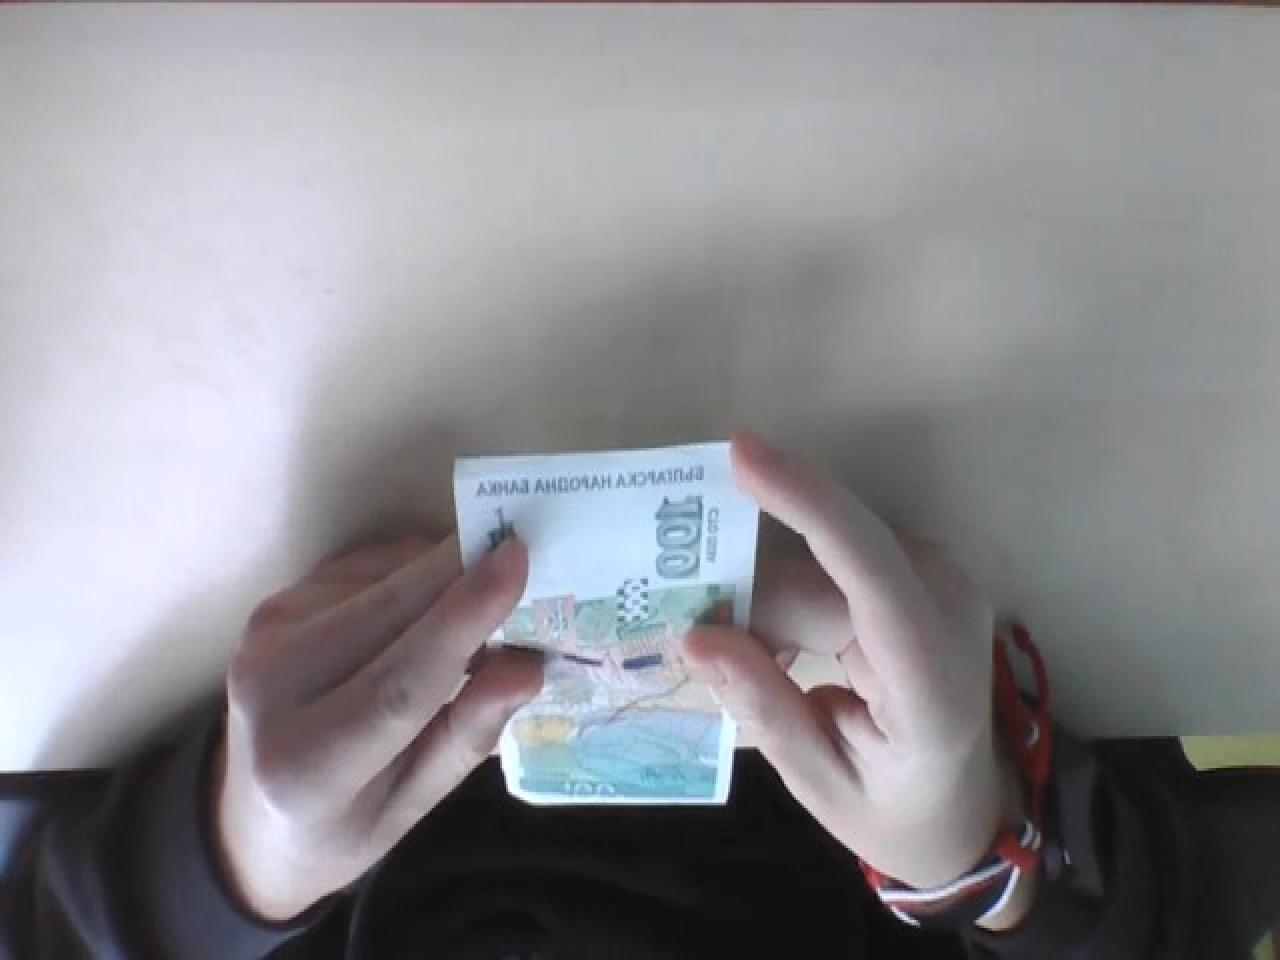100leva: (450, 441, 762, 811)
